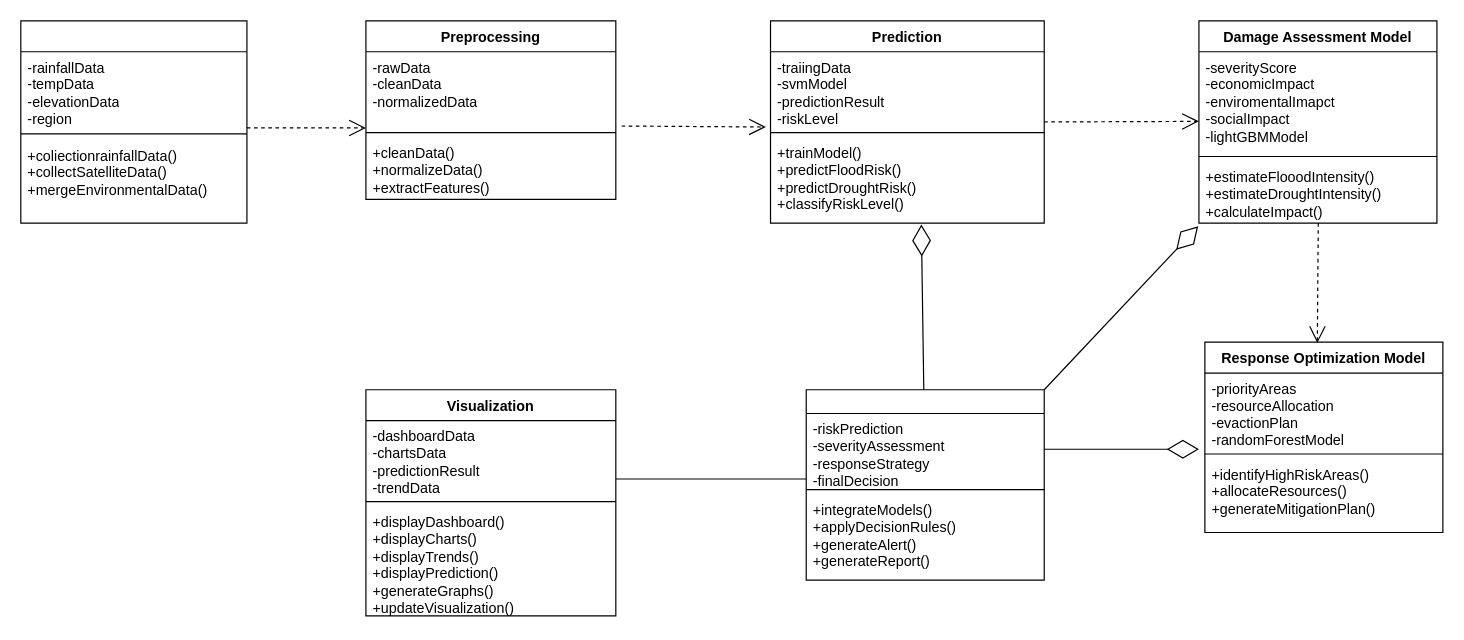
This 1464x640 diagram has some shape labels left out. The shapes that lost their labels are listed below. From the top down, each one's box as (x1, y1, x2, y2) in pixels, then its label:
(20, 20, 247, 223): Data Colection
(805, 389, 1044, 580): Model Integration
